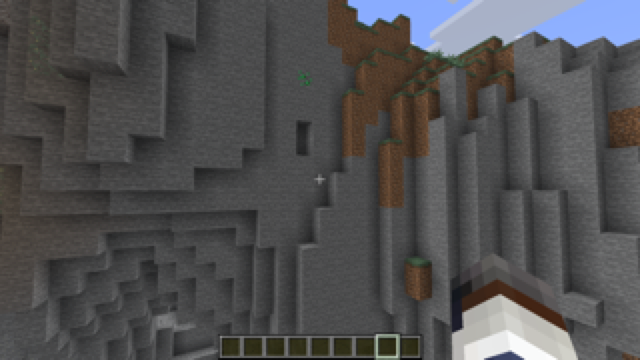emerald: (297, 68, 315, 88)
